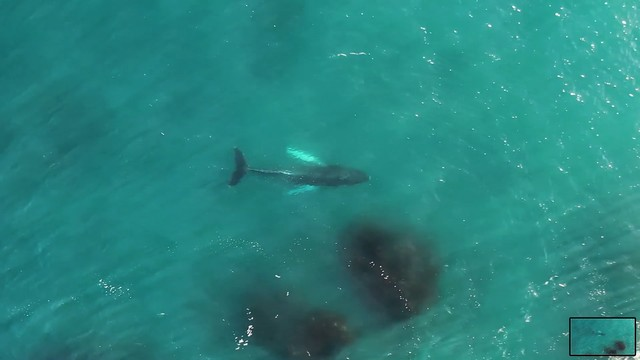whale: (213, 137, 383, 209)
